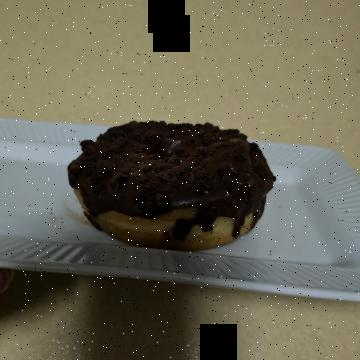doughnut: (96, 58, 258, 291)
